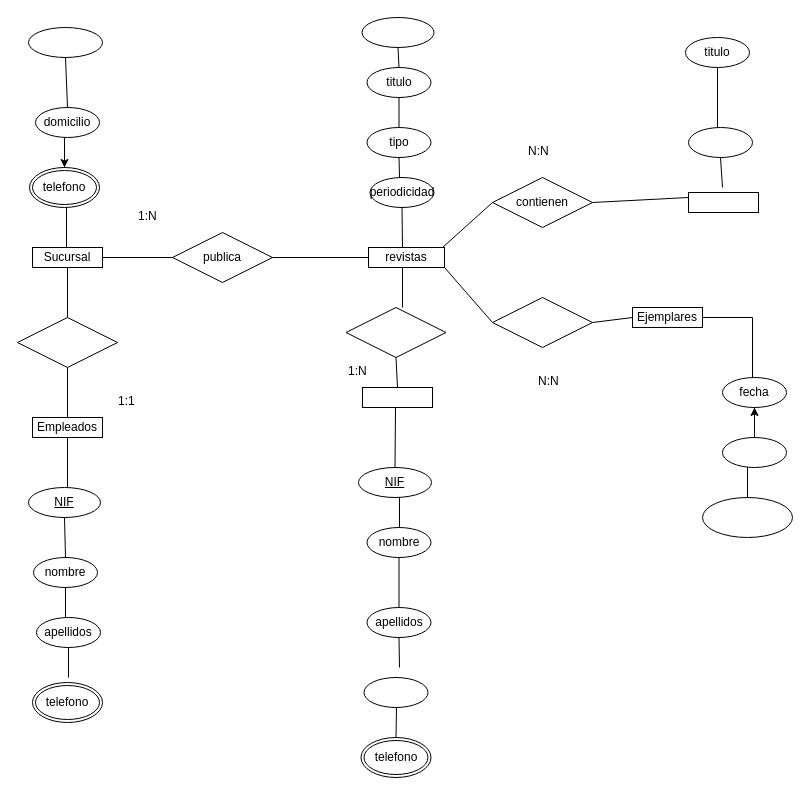
Some shapes in this 810 by 795 pixel diagram are drawn without their labels. Here are the shapes that lost their labels. From the top down, the centre of each, then its label:
At [65,42]: "código".
At [397,32]: "no_registro".
At [720,142]: "extensión".
At [723,202]: "Secciones".
At [67,342]: "trabajan".
At [395,332]: "Escriben".
At [542,322]: "publican".
At [397,397]: "Periodistas".
At [754,452]: "no de páginas".
At [747,517]: "no de ejemplares vendidos".
At [395,692]: "especialidad".
